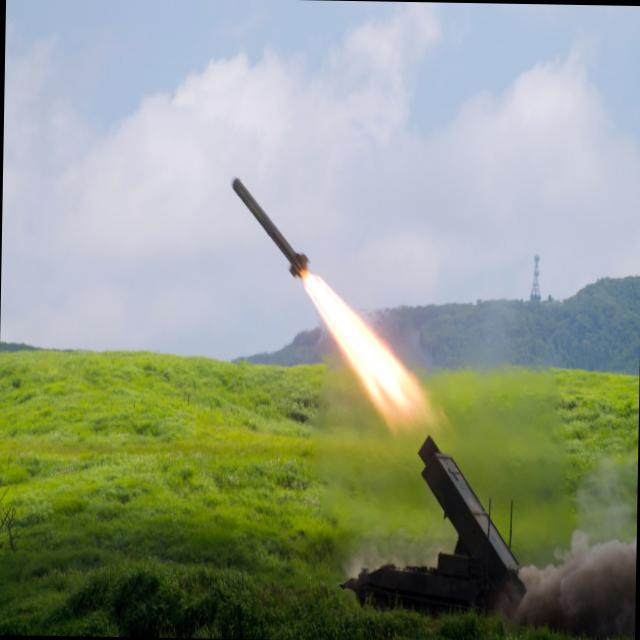rocket: (224, 173, 383, 398)
